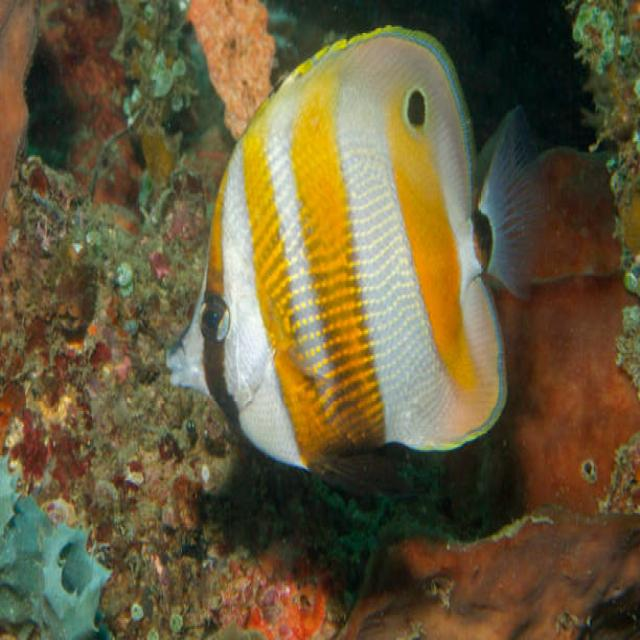ButterflyFish: (170, 27, 531, 473)
